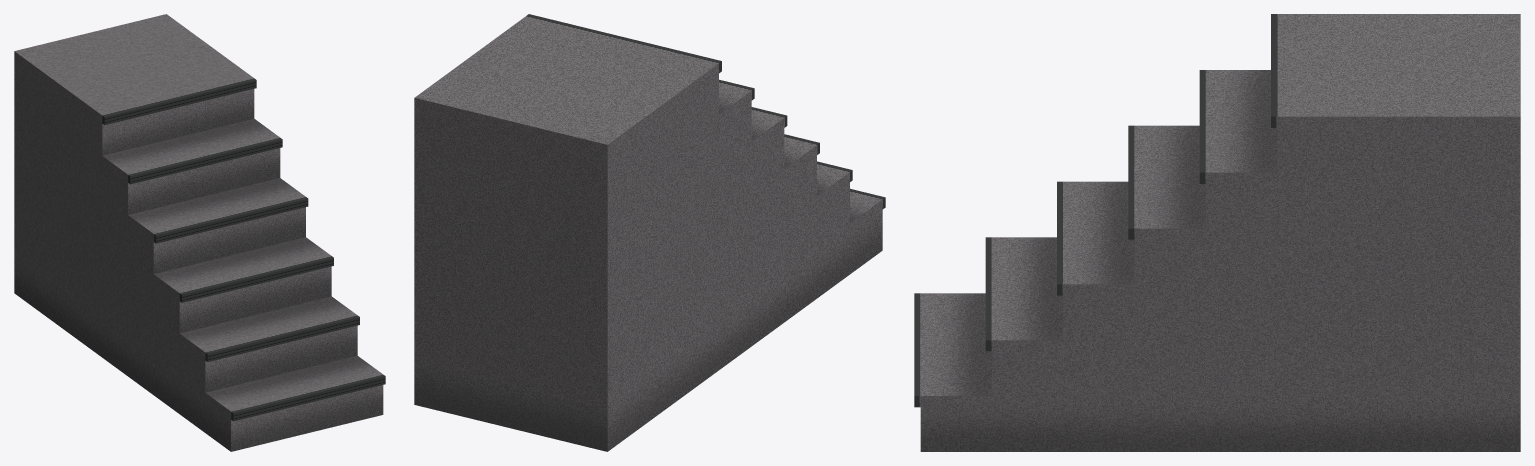
File: stairs.fbx
3 views of the same model, side by side, from view 1: azimuth 30°, elevation 25°; view 2: azimuth 150°, elevation 25°; view 3: azimuth 270°, elevation 25° (orthographic). The views are drawn at different scales.
Visible parts, largest first — view 1: stairs; view 2: stairs; view 3: stairs.
Boxes of the visible parts, <box> form: stairs: <box>14,14,385,451</box>; stairs: <box>414,14,885,451</box>; stairs: <box>914,14,1520,451</box>.
Size of the model in its own units: 75 by 114 by 187.
